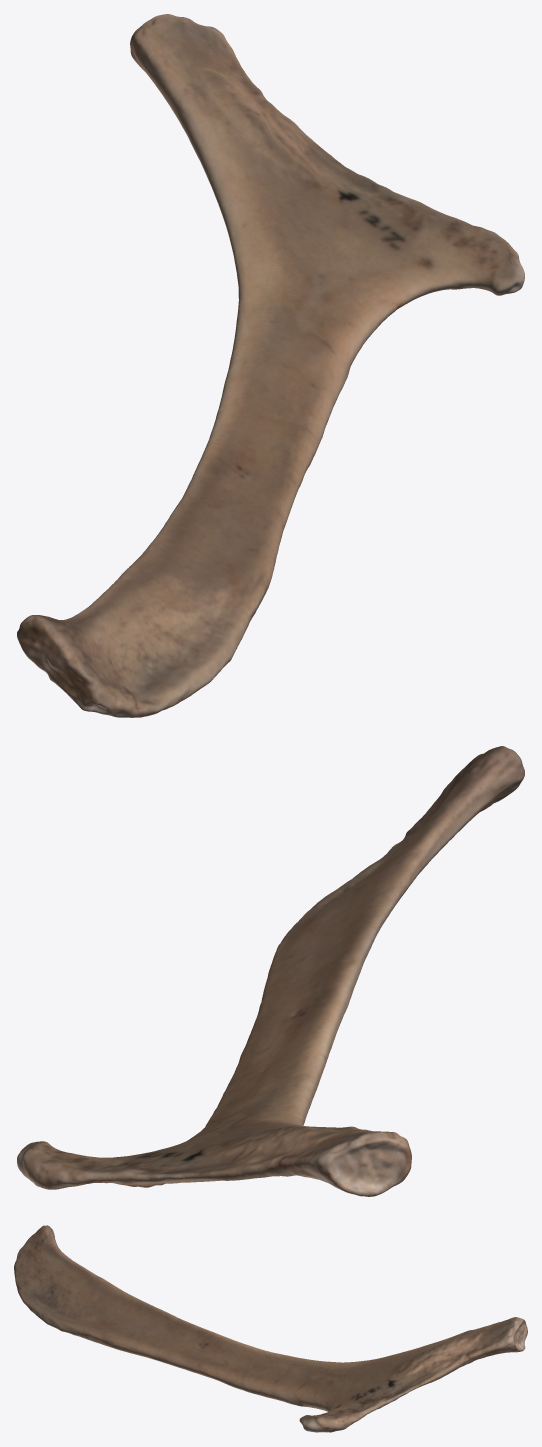
3 renders of one model, top to bottom at view 1: azimuth 30°, elevation 25°; view 2: azimuth 210°, elevation 25°; view 3: azimuth 270°, elevation 25°, orthographic. The views are drawn at different scales.
Visible parts, largest first — view 1: Node; view 2: Node; view 3: Node.
Boxes of the visible parts, x1,y1,x2,y2 form: Node: [17, 14, 524, 717]; Node: [17, 746, 524, 1196]; Node: [14, 1225, 527, 1432].
Bounding box in the file's own units: 106 × 28.48 × 121.
Materials: 1 (1 with a texture image).
